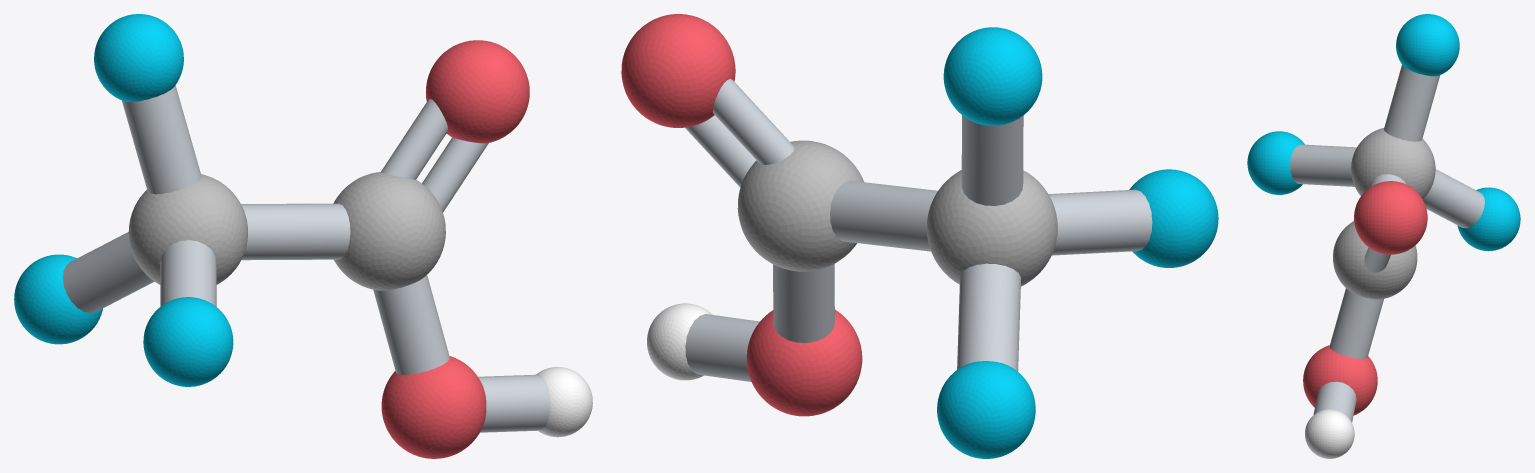
File: Trifluoroacetico.glb
3 views of the same model, side by side, from view 1: azimuth 30°, elevation 25°; view 2: azimuth 150°, elevation 25°; view 3: azimuth 270°, elevation 25° (orthographic). The views are drawn at different scales.
Size of the model in its own units: 3.89 by 3.53 by 2.74.
